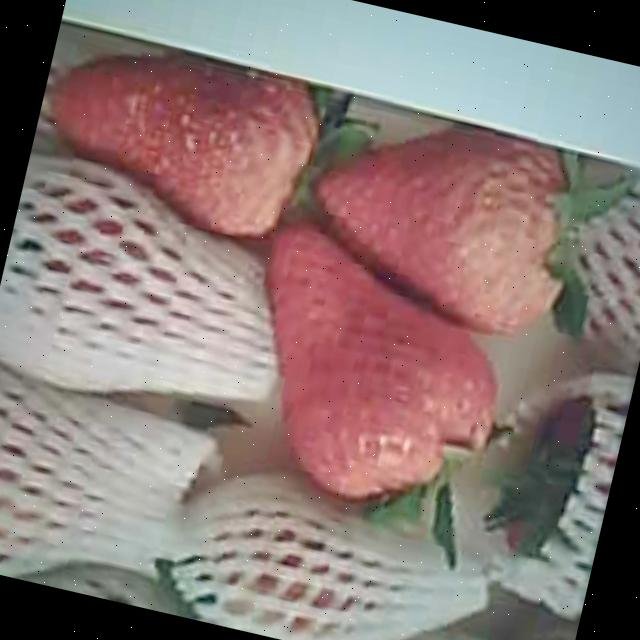strawberry: (220, 222, 526, 524), (294, 95, 592, 341), (33, 23, 330, 248)
